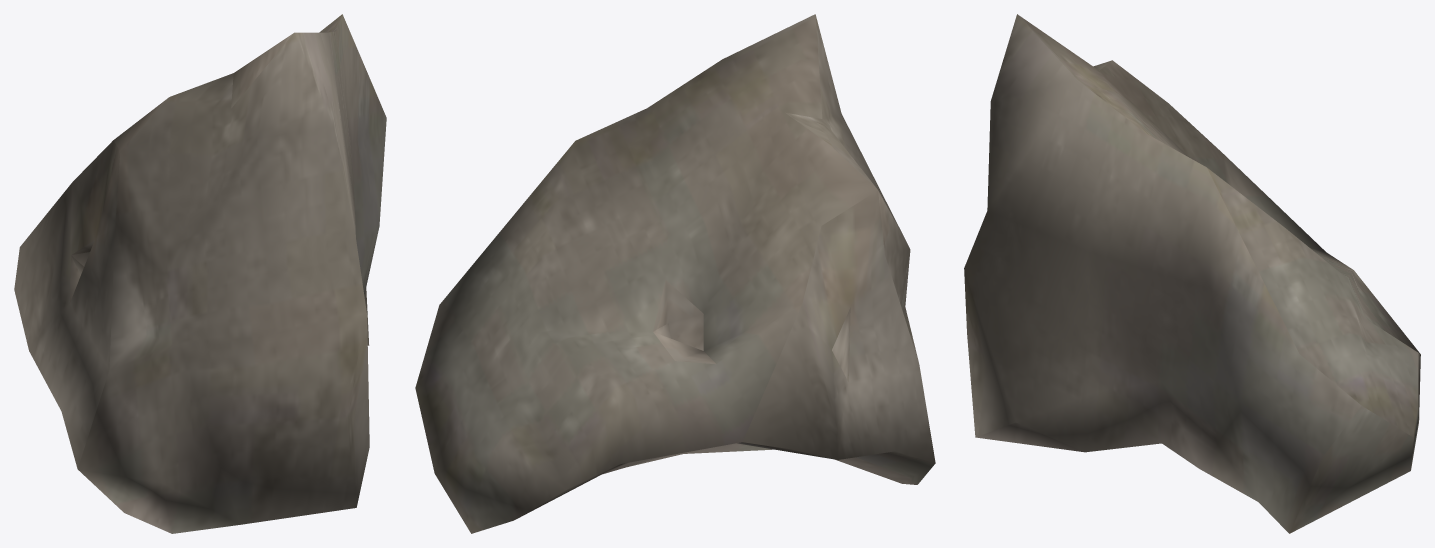
The model's file is moon_rock_06_lo.glb.
3 views of the same model, side by side, from view 1: azimuth 30°, elevation 25°; view 2: azimuth 150°, elevation 25°; view 3: azimuth 270°, elevation 25° (orthographic). The views are drawn at different scales.
Visible parts, largest first — view 1: moon_rock_06_lo; view 2: moon_rock_06_lo; view 3: moon_rock_06_lo.
Part boxes in pixels (x1,y1,x2,y2): moon_rock_06_lo: [14, 14, 386, 533]; moon_rock_06_lo: [415, 14, 935, 533]; moon_rock_06_lo: [964, 14, 1420, 533].
Size of the model in its own units: 0.9334 by 1.01 by 0.9865.
Materials: 1 (1 with a texture image).
